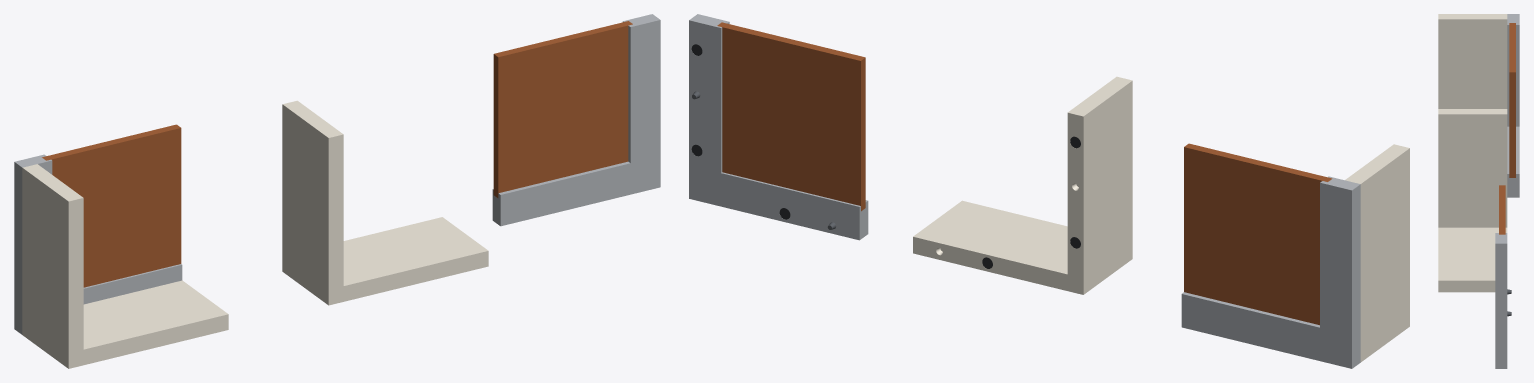
The model's file is 1C_magnets_and_pins.glb.
3 renders of one model, left to right at view 1: azimuth 30°, elevation 25°; view 2: azimuth 150°, elevation 25°; view 3: azimuth 270°, elevation 25°, orthographic. The views are drawn at different scales.
Parts seen in each view (by area): view 1: opened/leather, opened/body, assembled/body, assembled/leather, opened/frame, assembled/frame; view 2: opened/leather, opened/body, assembled/leather, assembled/frame, opened/frame, assembled/body; view 3: opened/body, assembled/body, opened/frame, assembled/frame, assembled/leather, opened/leather.
Boxes of the visible parts, x1,y1,x2,y2 form: opened/leather: (493,21,632,197); opened/body: (282,100,488,305); assembled/body: (22,164,228,368); assembled/leather: (42,124,181,287); opened/frame: (492,14,660,226); assembled/frame: (14,154,182,334); opened/leather: (717,22,865,211); opened/body: (913,76,1132,294); assembled/leather: (1184,143,1332,325); assembled/frame: (1181,176,1360,368); opened/frame: (689,14,868,240); assembled/body: (1345,144,1409,362); opened/body: (1438,109,1507,292); assembled/body: (1438,14,1507,108); opened/frame: (1495,233,1507,368); assembled/frame: (1507,14,1519,197); assembled/leather: (1509,23,1515,177); opened/leather: (1499,185,1505,234).
Bounding box in the file's own units: 0.63 × 0.16 × 0.094.
